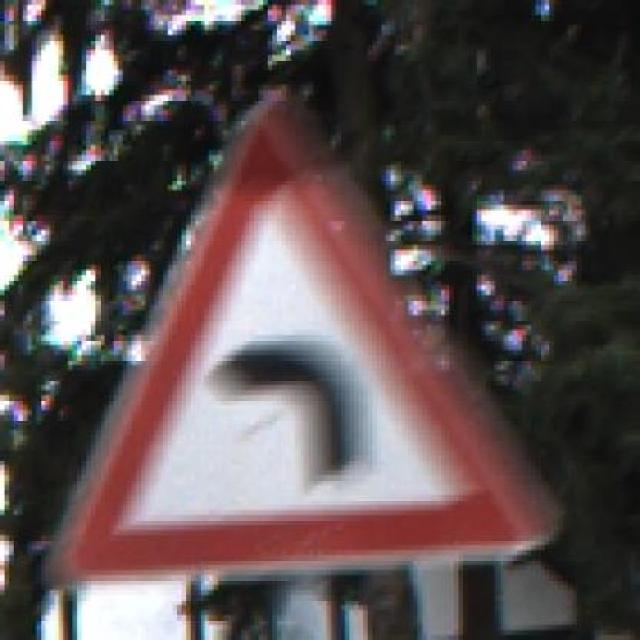Dangerous Left Curve Ahead: (40, 80, 558, 591)
